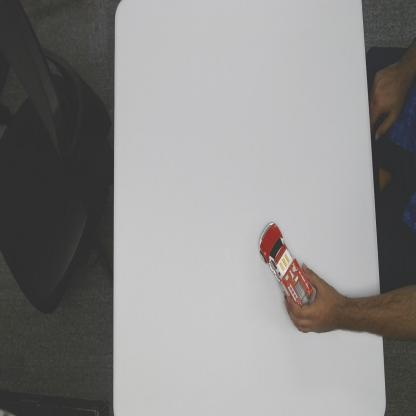Firetruck: (258, 220, 314, 302)
Hand: (284, 260, 342, 332)
